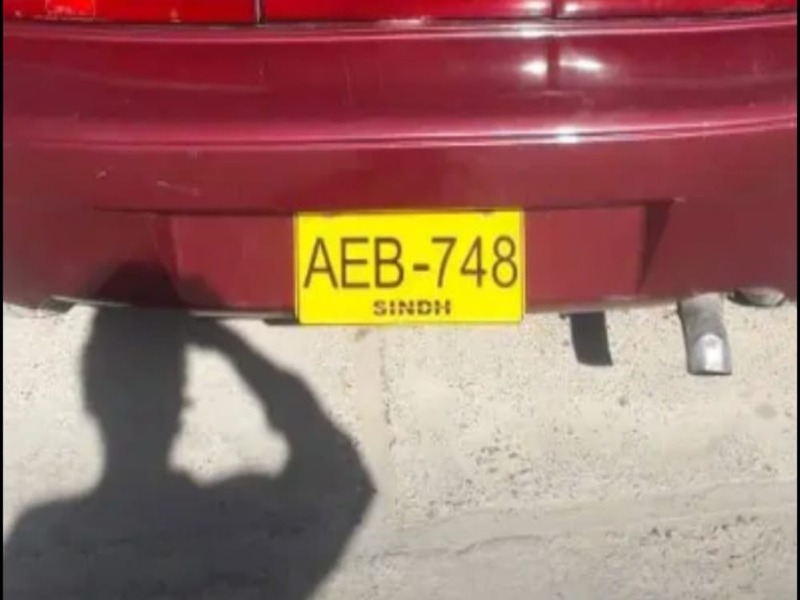License Plate: (292, 208, 526, 320)
